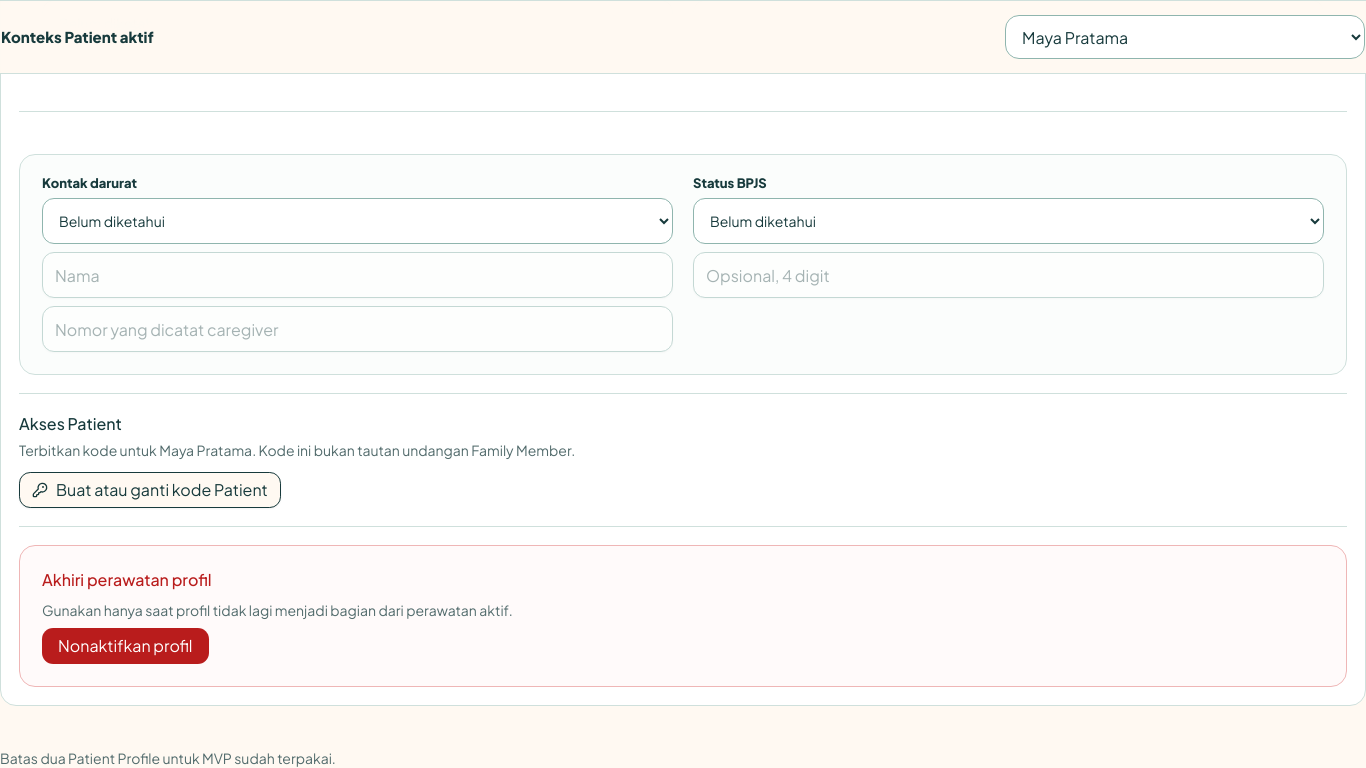
Test: caregiver Patient Profile lifecycle UI › requires Owner confirmation and removes the deactivated profile
(page scrolled)
Click the button "Nonaktifkan profil": (125,646) left=42, top=628, right=208, bottom=664
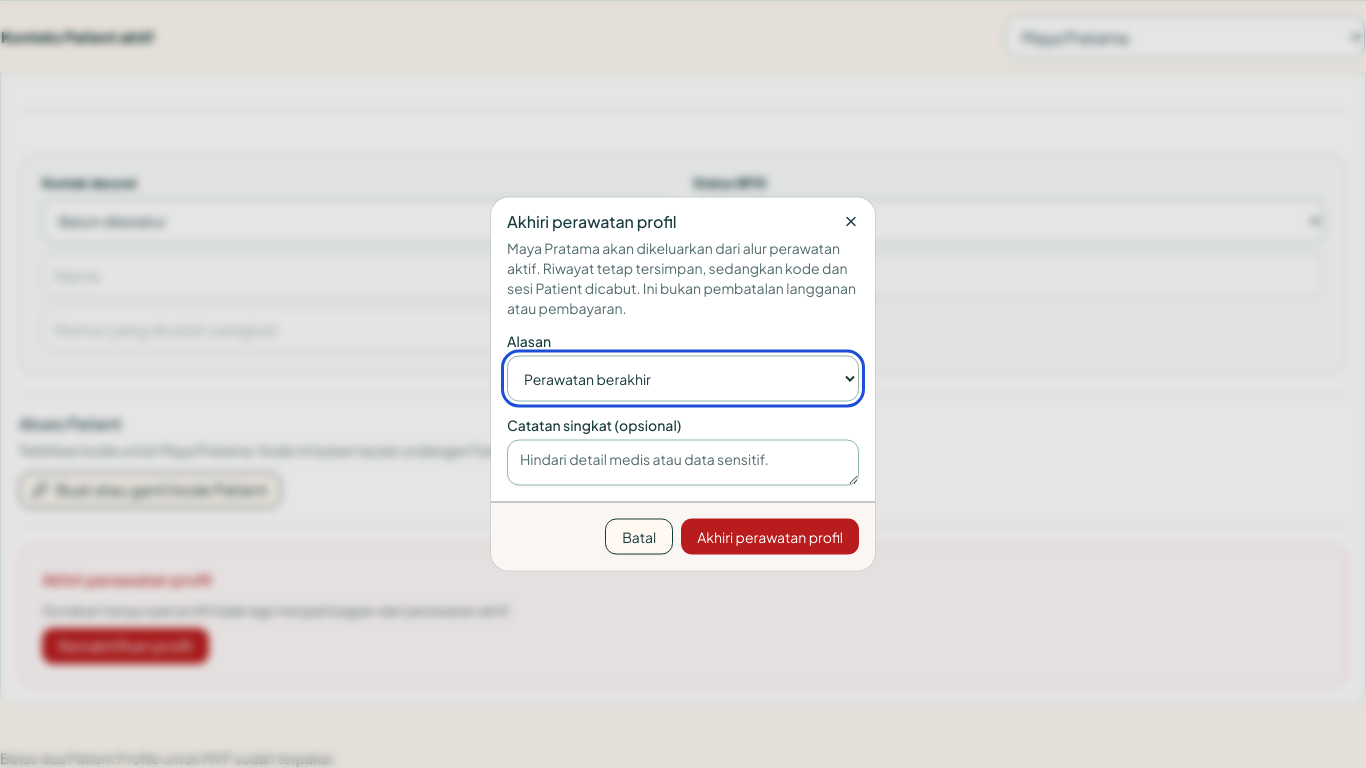
Expected: the text "bukan pembatalan langganan atau pembayaran" is shown, left=507, top=238, right=856, bottom=316
Select "Pasien berpindah perawatan" in the dropdown labelled "Alasan": (683,378) left=507, top=356, right=859, bottom=402
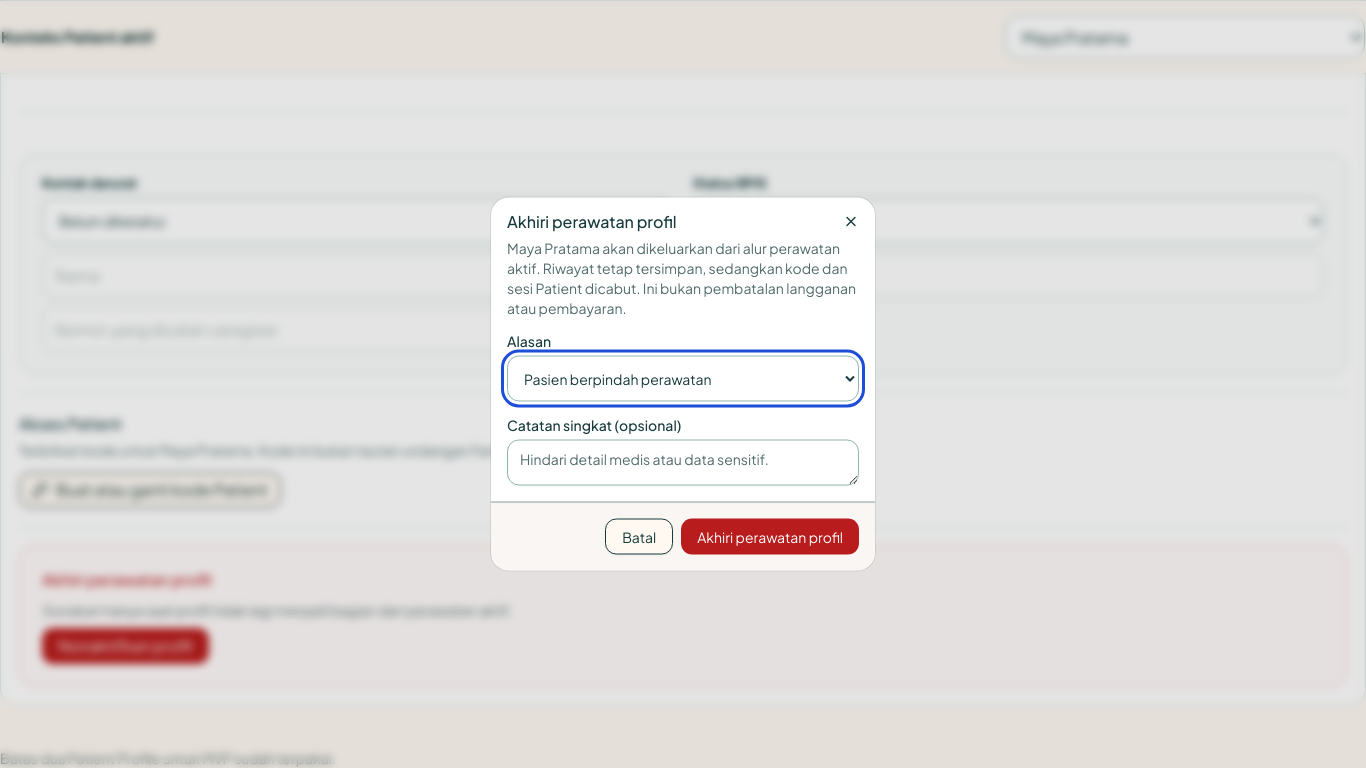
In the text box labelled "Catatan singkat (opsional)": (683,462) left=507, top=440, right=859, bottom=486, type "Catatan sintetis"
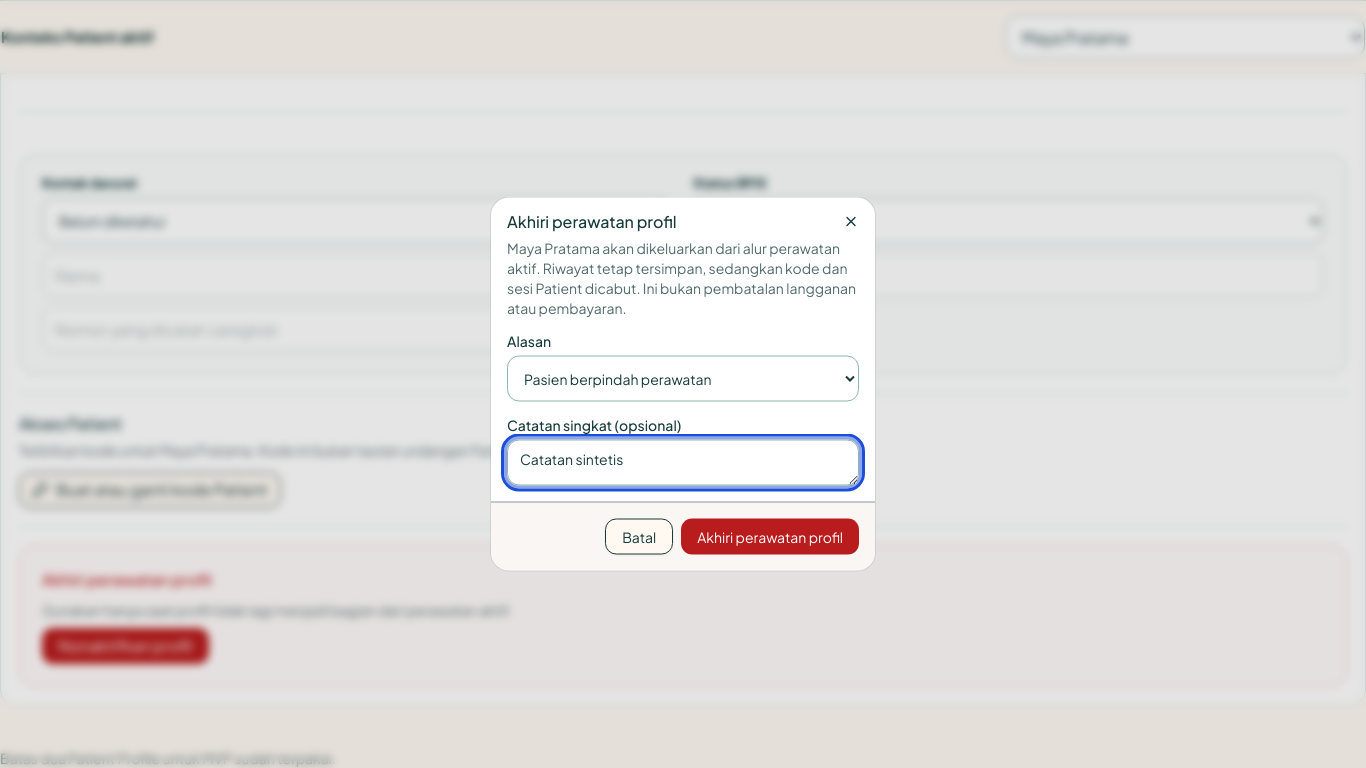
Click the button "Akhiri perawatan profil": (770,536) left=681, top=518, right=859, bottom=554
(page scrolled)
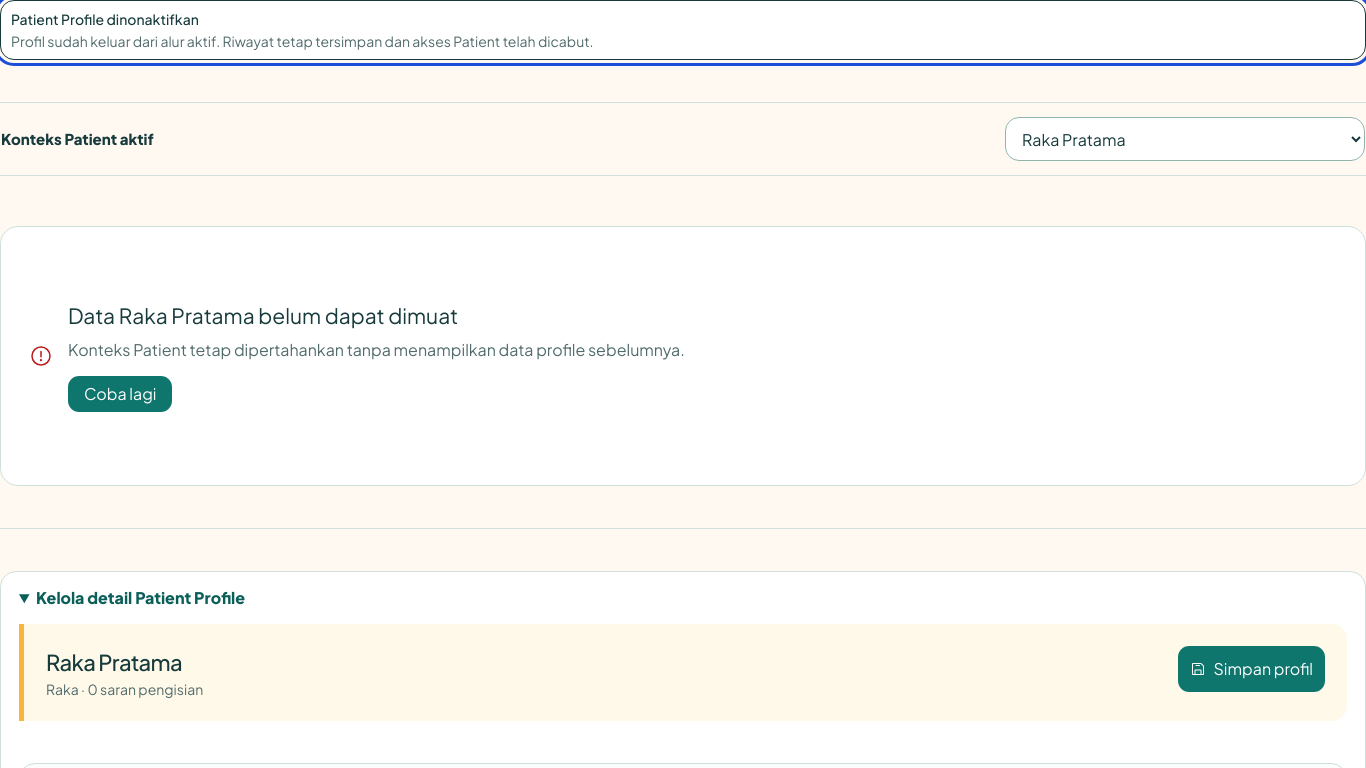
Expected: the text "Patient Profile dinonaktifkan" is shown, left=11, top=10, right=199, bottom=28
Expected: the heading "Raka Pratama" is shown, left=46, top=646, right=203, bottom=679
